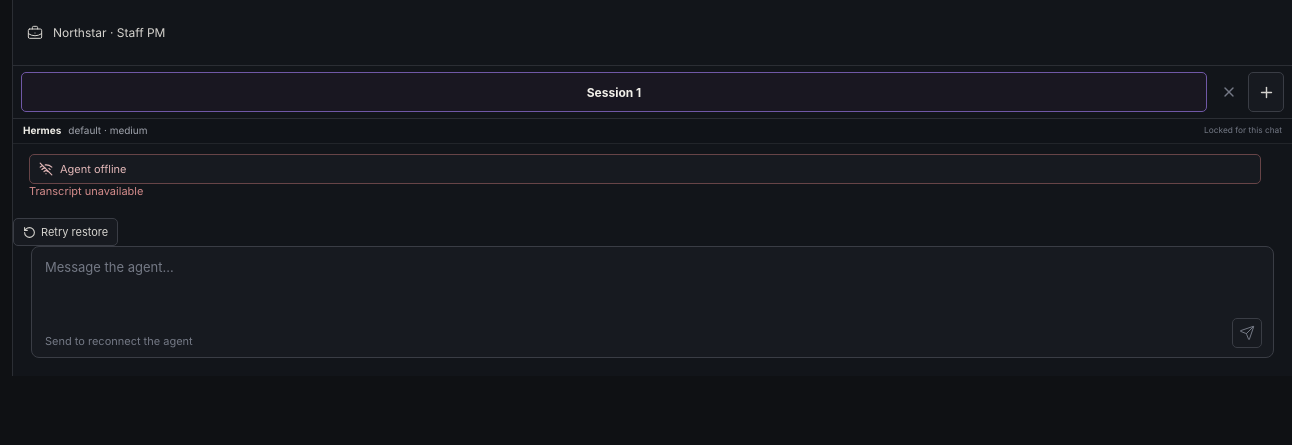
a failed transcript restore offers a retry that preserves the composer
Expected: the text "Transcript unavailable" is shown, [29,184,143,198]
Type "Keep this text" into the text box labelled "Message the agent" at (654, 288), box [45,258,1262,318]
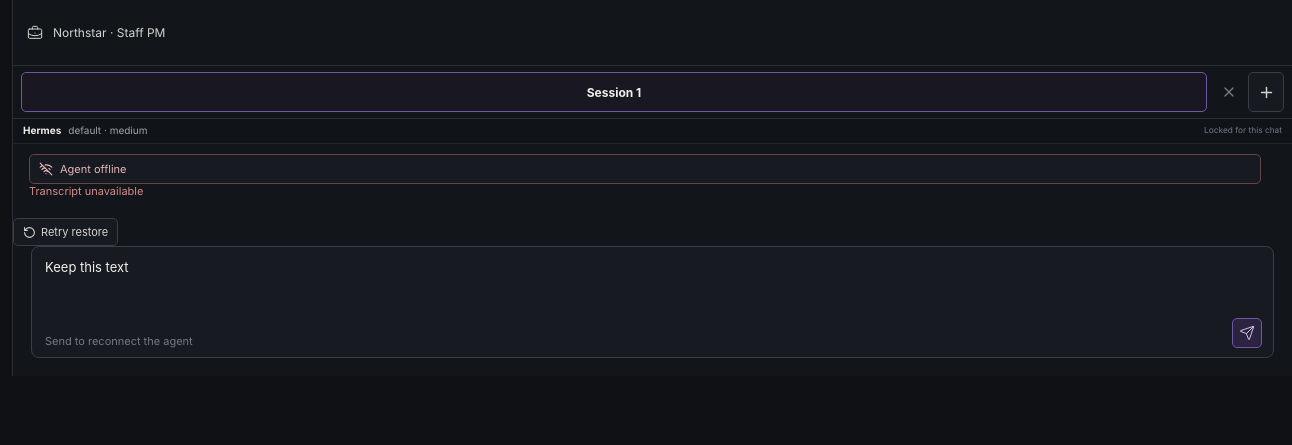
Click the button with aria-label "Retry restoring conversation" at (66, 232), box [13,218,118,246]
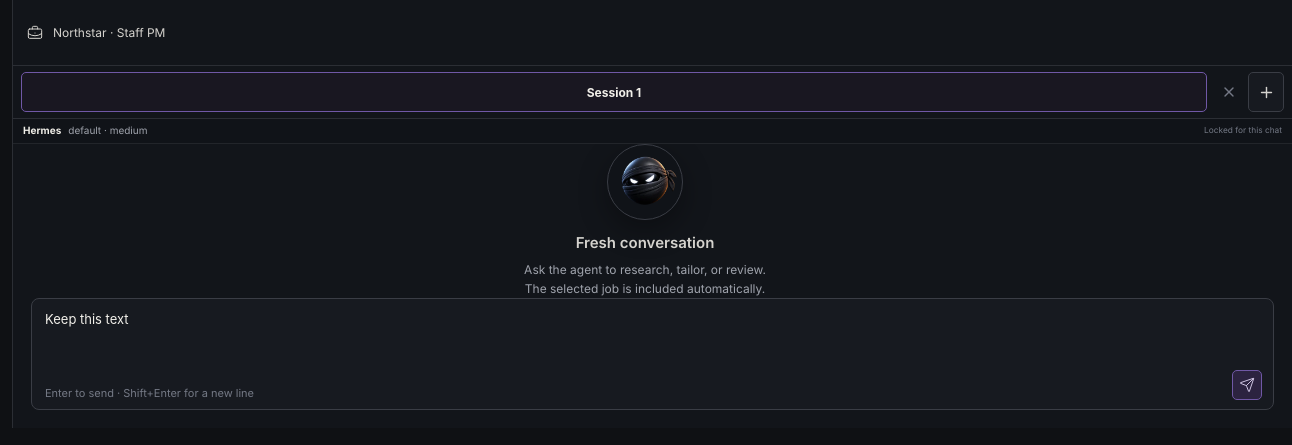
Now the text "Transcript unavailable" is gone
